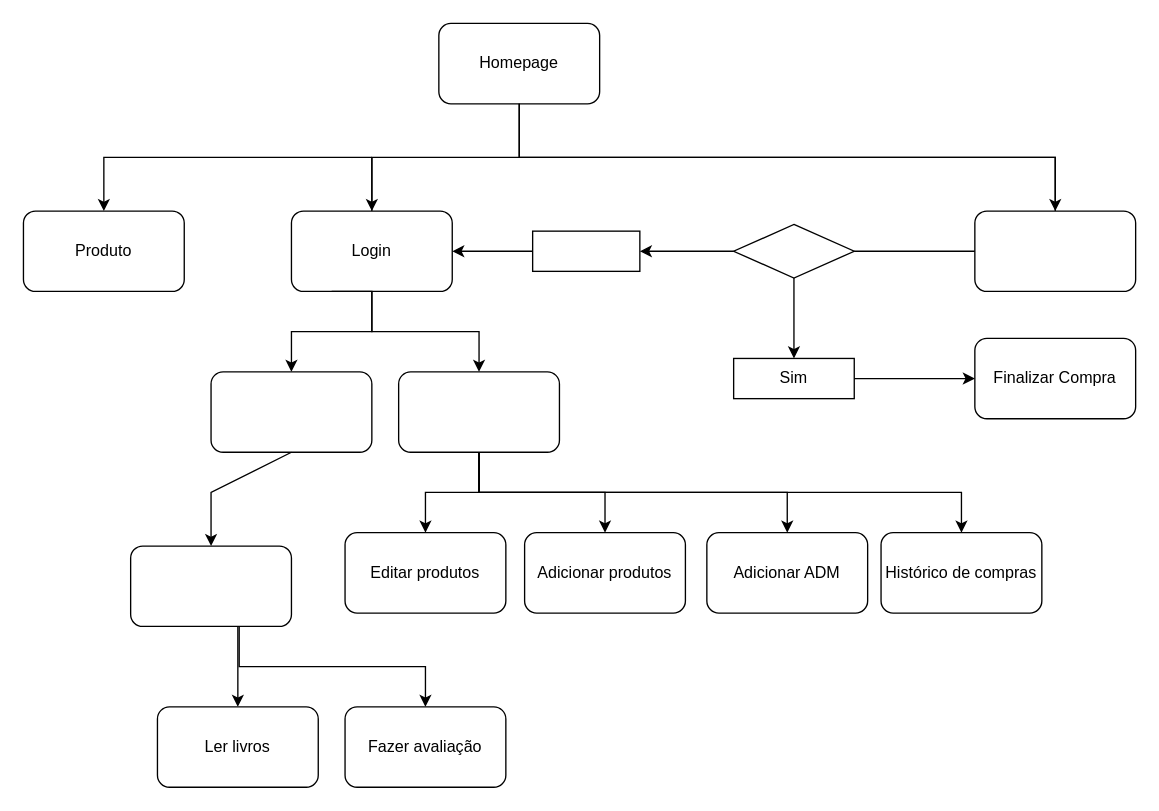
This 1159x811 diagram has some shape labels left out. Each missing label, with the centre of its shape:
"Biblioteca" belongs at [210,585].
"Carrinho" belongs at [1055,250].
"Logado" belongs at [793,250].
"Não" belongs at [585,250].
"Perfil do ADM" belongs at [478,411].
"Perfil do Cliente" belongs at [291,411].
